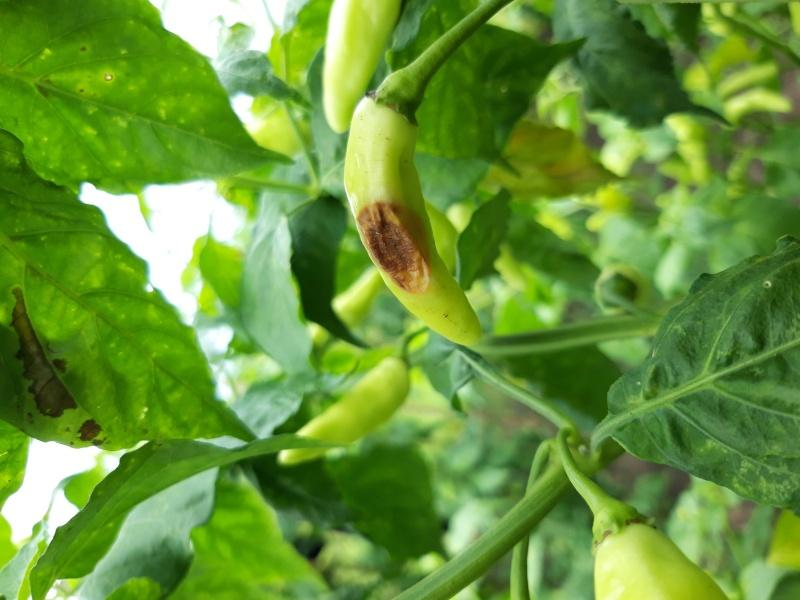antraknosa: (344, 95, 480, 345)
cabai_normal: (278, 358, 407, 463), (322, 0, 404, 136), (590, 525, 726, 600)
